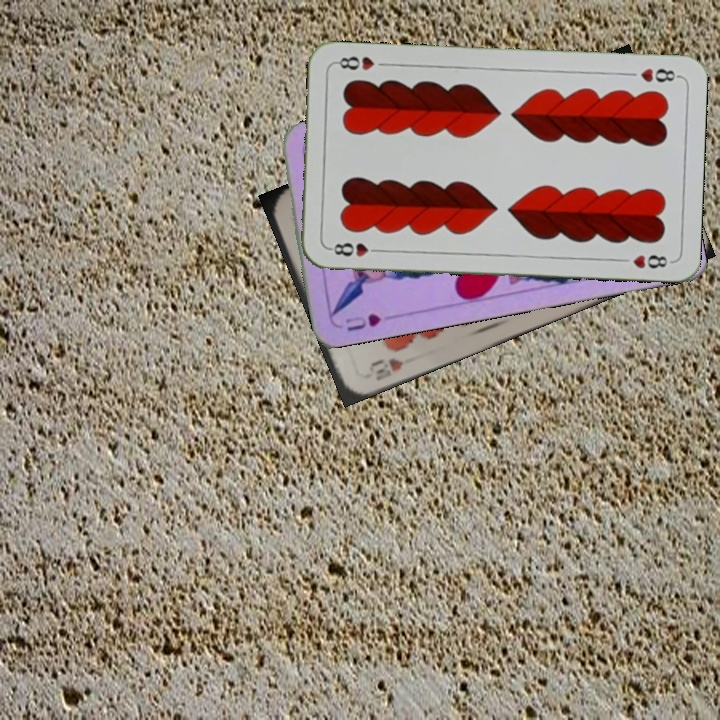H10: (358, 353, 406, 384)
H8: (622, 64, 681, 85), (325, 239, 384, 259)
HU: (342, 309, 384, 334)
